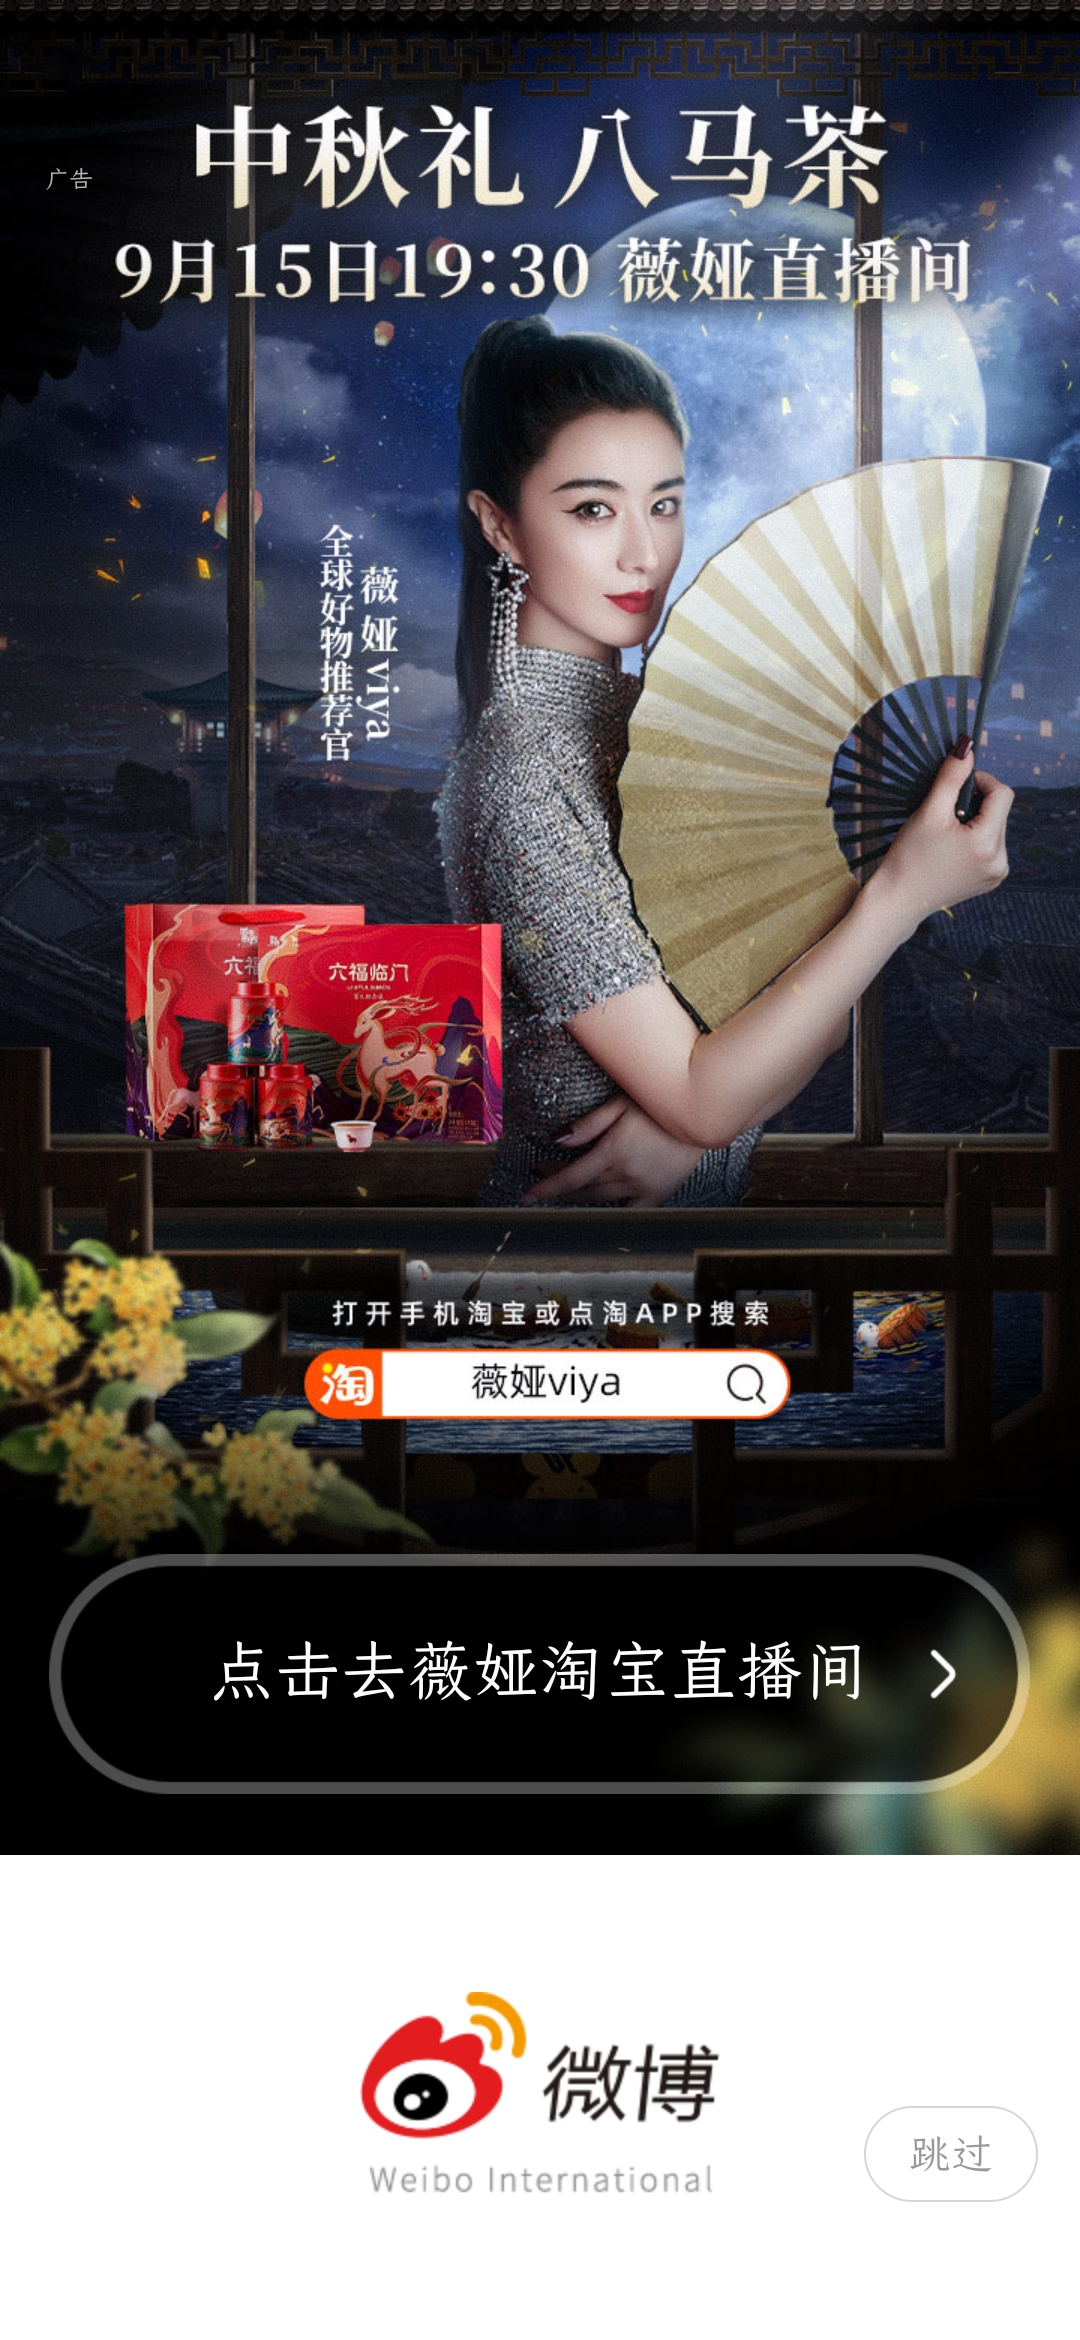skip: (874, 2106, 1026, 2203)
